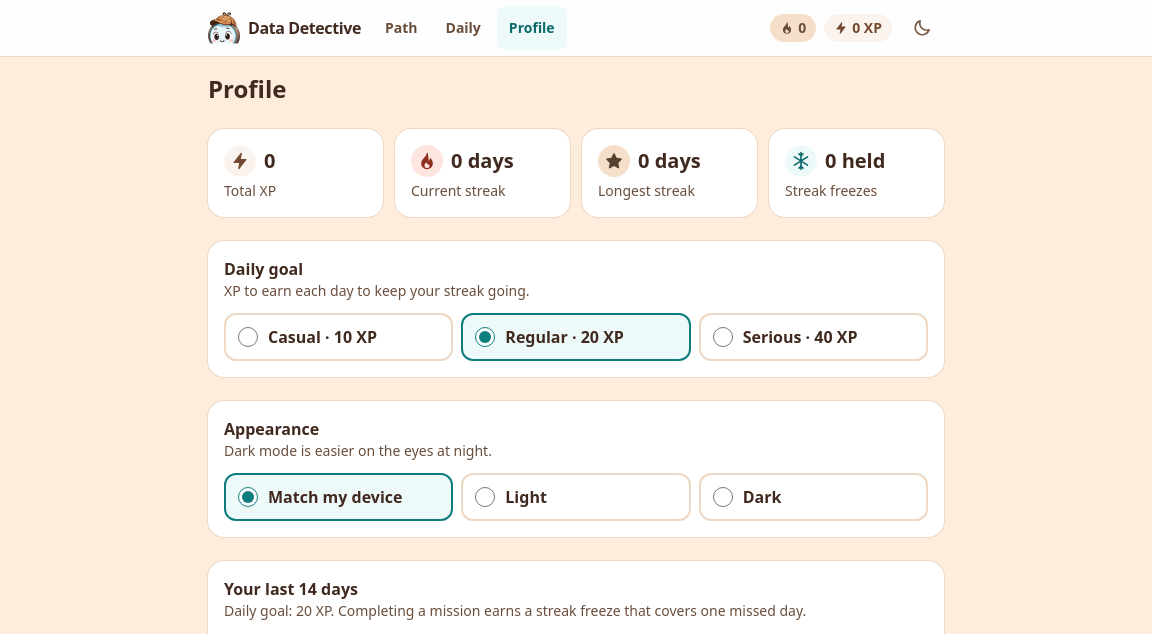
Test: onboarding › lets learners change their daily goal on the profile page
Expected: the radio button labelled "Regular · 20 XP" is checked, [475,327,495,347]
Click the radio button labelled "Casual · 10 XP".
click(248, 337)  # box [238,327,258,347]
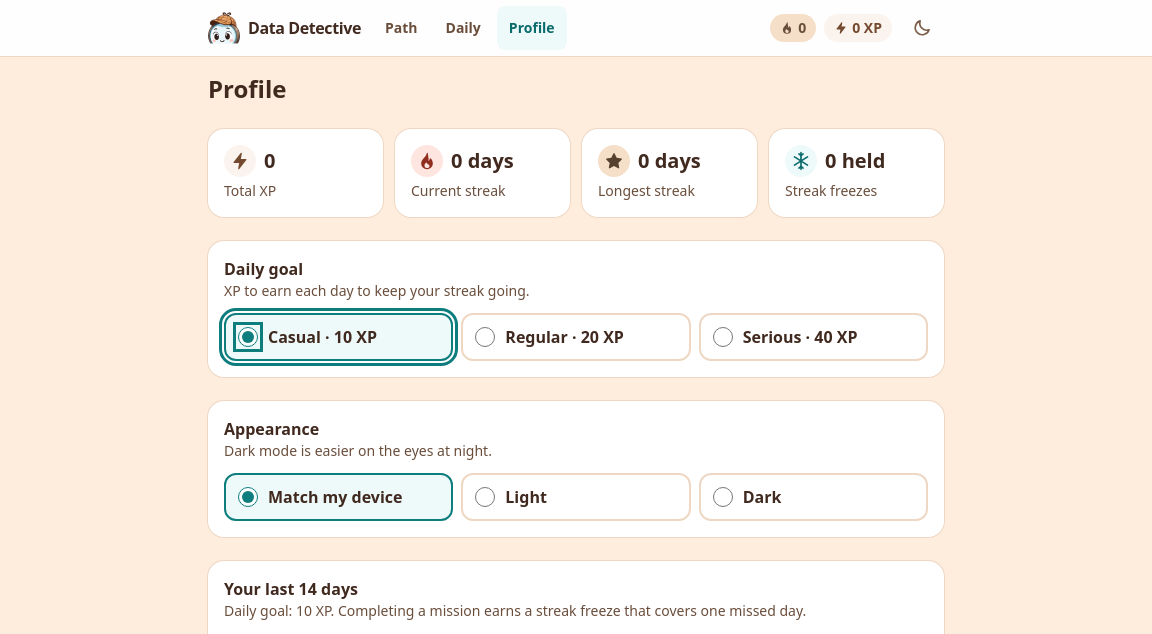
Expected: the radio button labelled "Casual · 10 XP" is checked, [238,327,258,347]
Expected: the text "Daily goal: 10 XP" is shown, [224,601,806,620]
